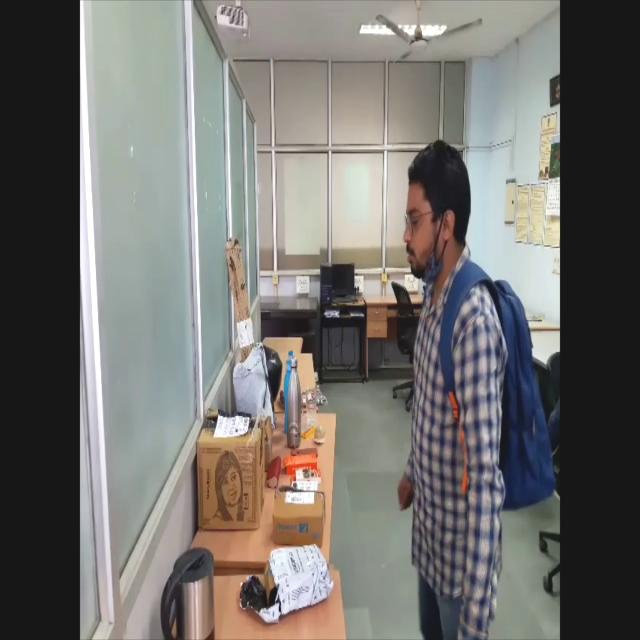normal: (391, 138, 555, 639)
